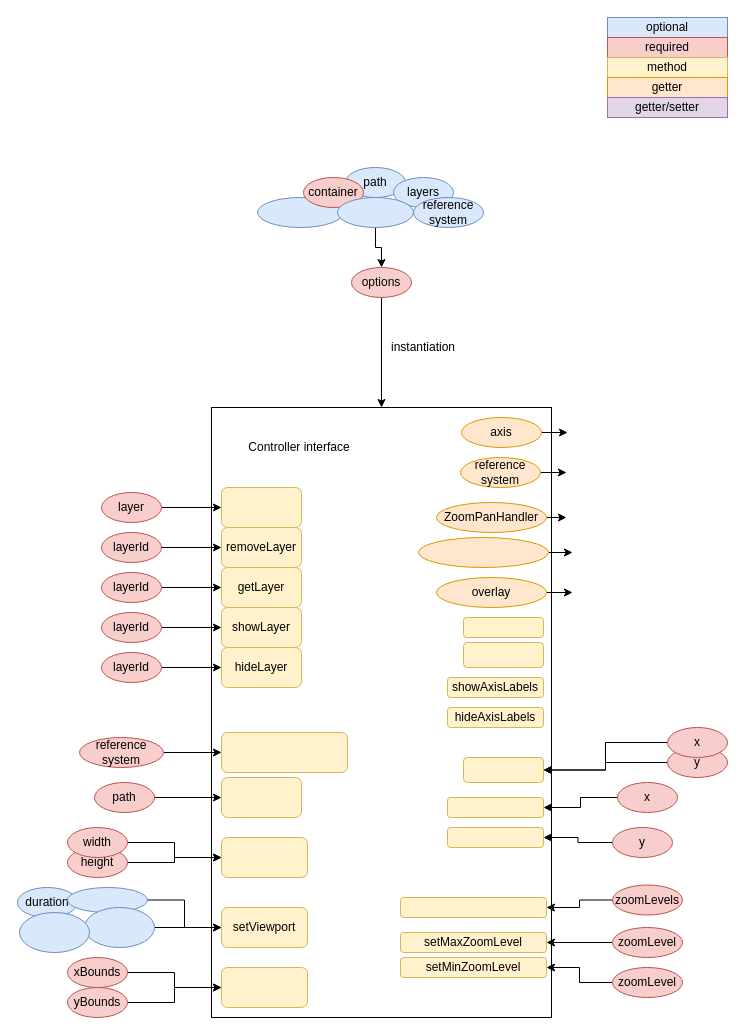
Image size: 745x1035. Some labels were removed from this diagram. Here are the shapes that lost their labels. From the top down, the box of each, then its label:
(256, 196, 344, 228): axisOptions
(336, 196, 414, 228): scaleOptions
(220, 486, 302, 528): addLayer
(418, 536, 548, 568): currentStateAsEvent
(462, 616, 544, 638): showAxis
(462, 642, 544, 668): hideAxis
(220, 732, 348, 772): setReferenceSystem
(462, 756, 544, 782): setAxisOffset
(220, 776, 302, 818): updatePath
(446, 796, 544, 818): setXAxisOffset
(220, 836, 308, 878): adjustToSize
(446, 826, 544, 848): setYAxisOffset
(66, 886, 148, 912): displacement
(400, 896, 546, 918): setZoomLevelBoundary
(18, 912, 90, 952): x center position
(84, 906, 154, 948): y center position
(220, 966, 308, 1008): setBounds
